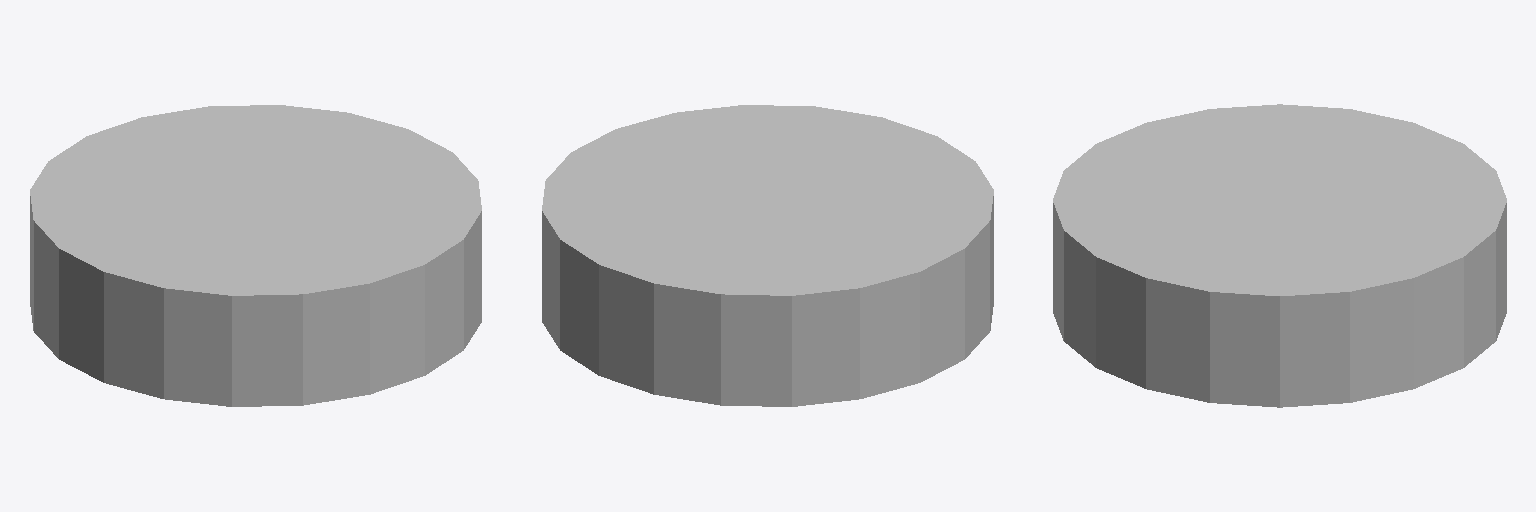
The model's file is button.obj.
The picture shows the model from 3 angles: view 1: azimuth 30°, elevation 25°; view 2: azimuth 150°, elevation 25°; view 3: azimuth 270°, elevation 25°; orthographic projection.
Visible parts, largest first — view 1: pCylinder1; view 2: pCylinder1; view 3: pCylinder1.
Boxes of the visible parts, x1,y1,x2,y2 form: pCylinder1: [30, 105, 481, 406]; pCylinder1: [542, 105, 993, 406]; pCylinder1: [1053, 104, 1506, 407].
Bounding box in the file's own units: 1.62 × 0.436 × 1.62.